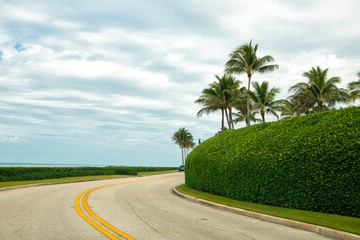rightTrun: (34, 166, 184, 238)
